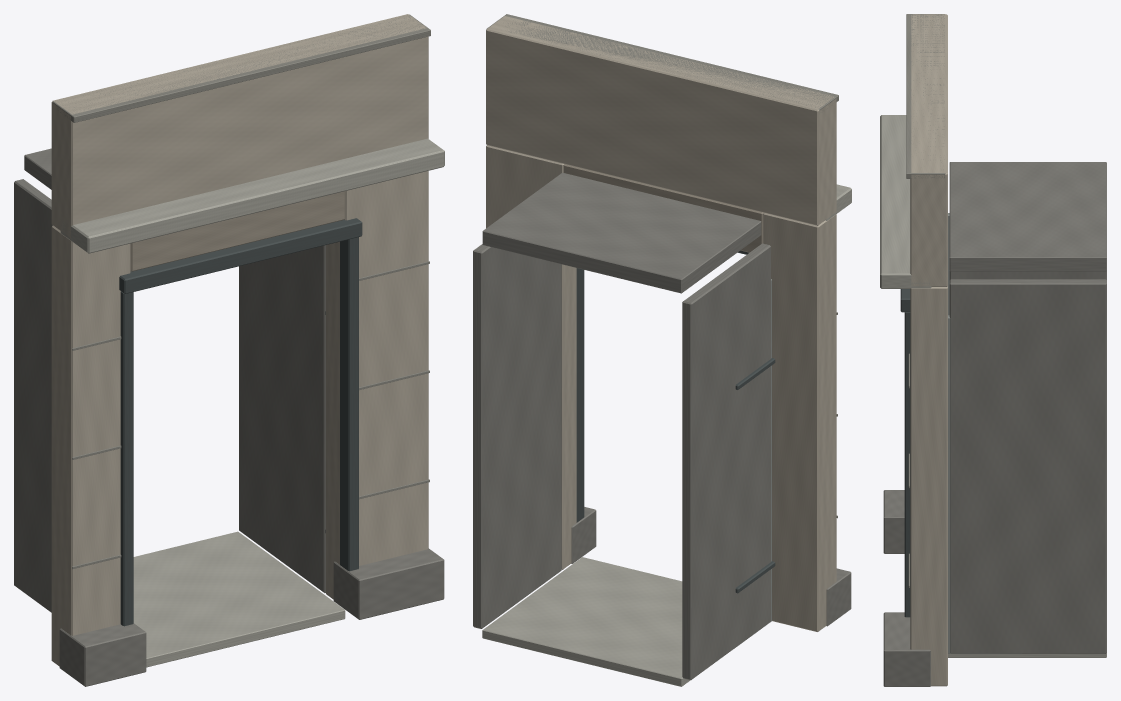
The model's file is F06_ServiceEntry_visual.glb.
The picture shows the model from 3 angles, left to right: view 1: azimuth 30°, elevation 25°; view 2: azimuth 150°, elevation 25°; view 3: azimuth 270°, elevation 25°; orthographic projection. The views are drawn at different scales.
Visible parts, largest first — view 1: F06_ServiceEntry__VIS; view 2: F06_ServiceEntry__VIS; view 3: F06_ServiceEntry__VIS.
Part boxes in pixels (box(x1,y1,x2,y2)): F06_ServiceEntry__VIS: box(14, 14, 444, 686); F06_ServiceEntry__VIS: box(473, 14, 851, 686); F06_ServiceEntry__VIS: box(880, 14, 1106, 686).
Size of the model in its own units: 12.08 by 18.3 by 7.21.
1 material, 1 textured.
